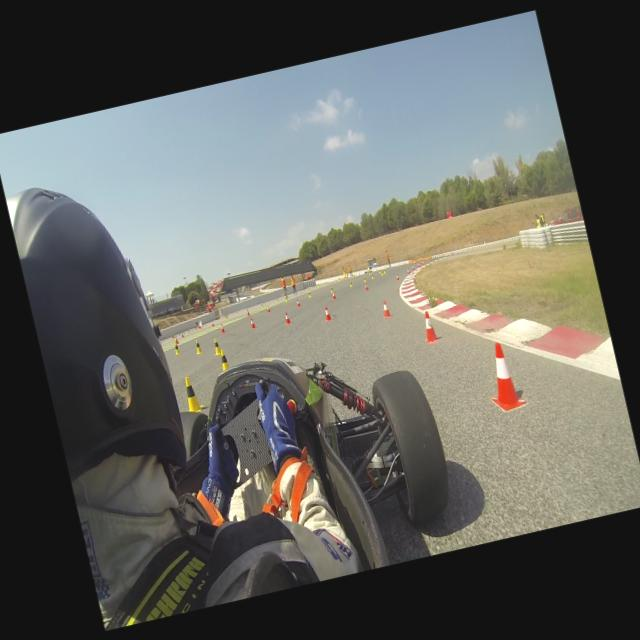orange_cone: (480, 339, 524, 414), (418, 309, 440, 344), (379, 299, 392, 318), (322, 305, 332, 322), (282, 311, 290, 324), (249, 317, 255, 329), (330, 291, 336, 299), (295, 299, 301, 307), (220, 322, 224, 333), (363, 282, 368, 290), (246, 308, 250, 316), (174, 336, 178, 344), (266, 305, 270, 312), (395, 274, 399, 280), (410, 265, 414, 270), (406, 268, 409, 274), (210, 322, 214, 326), (417, 262, 419, 268), (422, 260, 424, 264)
yellow_cone: (180, 374, 203, 414), (218, 348, 230, 369), (194, 338, 202, 354), (212, 338, 220, 354), (172, 341, 180, 355), (329, 285, 334, 293), (348, 280, 352, 288), (379, 269, 384, 275), (362, 276, 367, 282), (308, 290, 312, 297), (382, 268, 386, 274), (370, 272, 374, 278), (170, 334, 174, 340), (284, 296, 288, 302), (260, 302, 263, 308), (225, 315, 228, 320), (275, 297, 277, 302), (378, 268, 380, 272)
